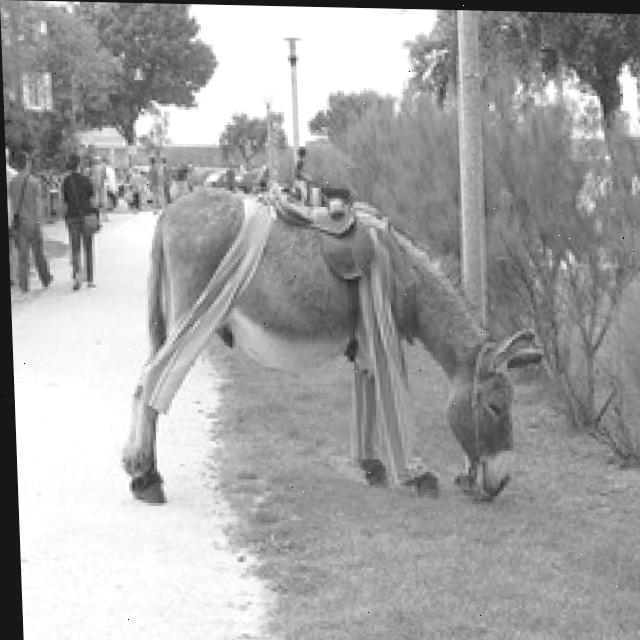Donkey: (109, 179, 550, 512)
